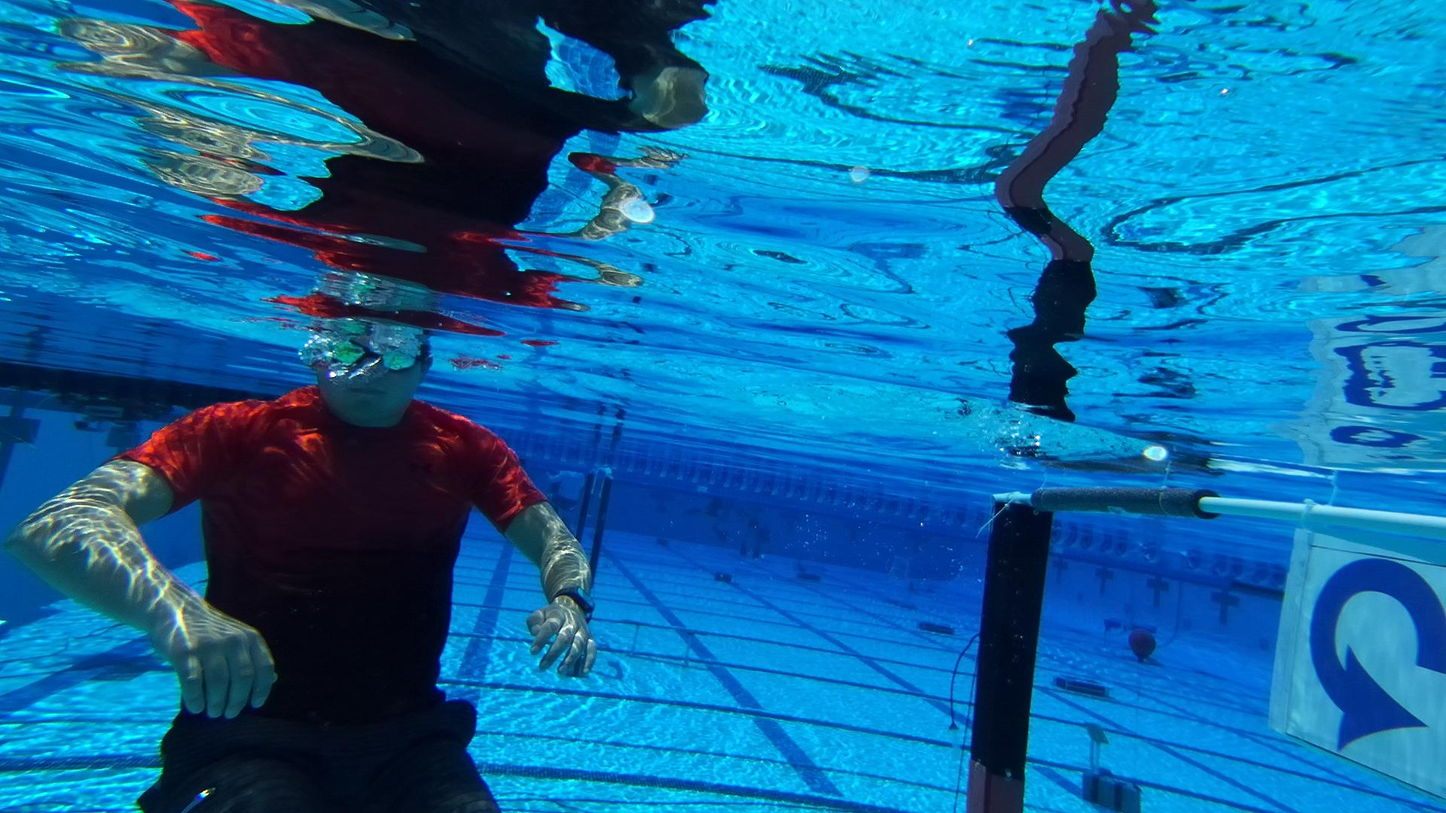buoy: (1127, 626, 1157, 662)
coral-box-side: (1101, 618, 1156, 667)
dropper-box-side: (1053, 675, 1109, 697), (920, 622, 955, 635)
path: (622, 622, 709, 674)
red octagon: (895, 571, 900, 578), (896, 561, 900, 568), (902, 563, 906, 570), (902, 575, 905, 582)
red-gate-sign: (1264, 518, 1442, 799)
